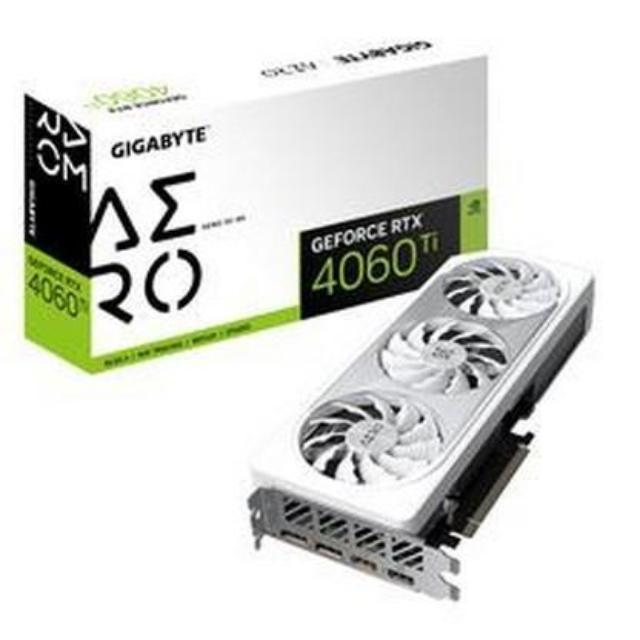GPU: (226, 256, 609, 564)
